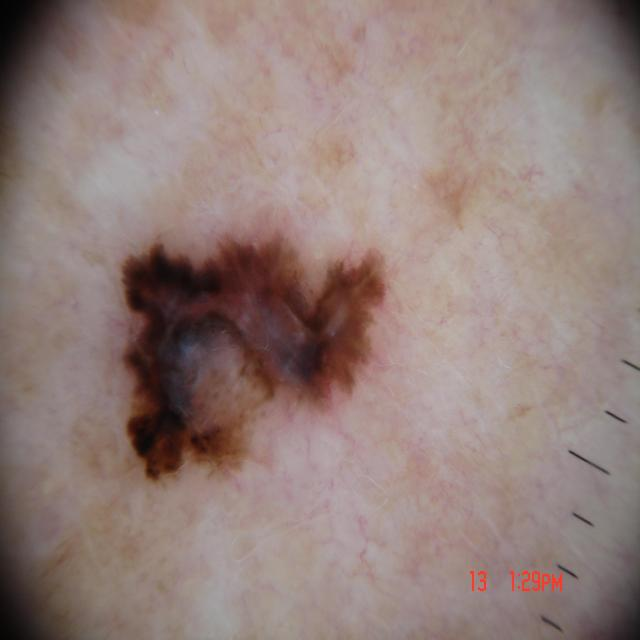Melanoma: (96, 226, 396, 491)
